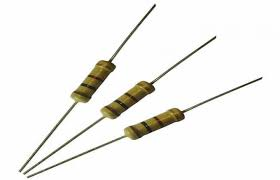resistor: (124, 102, 193, 151), (96, 77, 161, 123), (67, 51, 116, 110)
